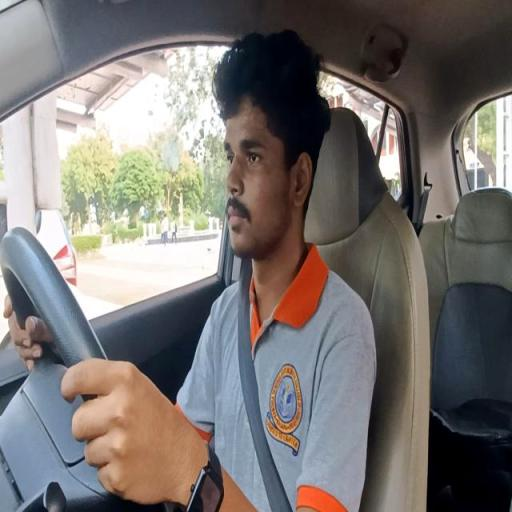Normal: (214, 25, 345, 423)
